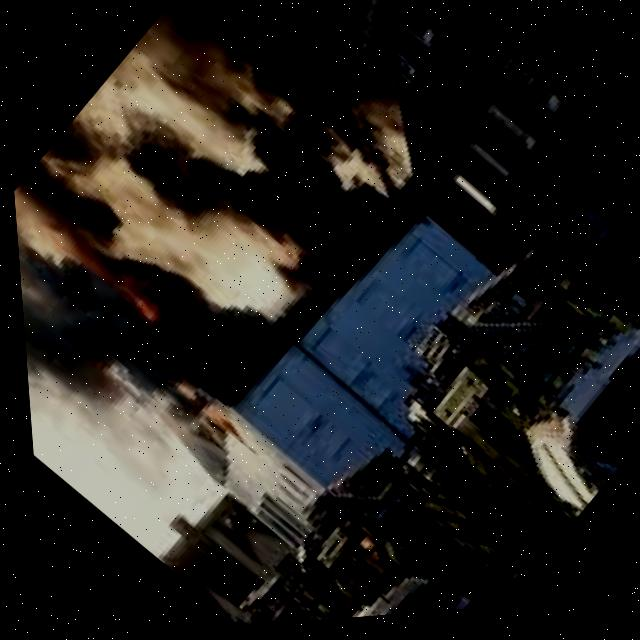Smoke: (81, 0, 453, 368), (7, 112, 312, 530), (113, 0, 503, 237)
